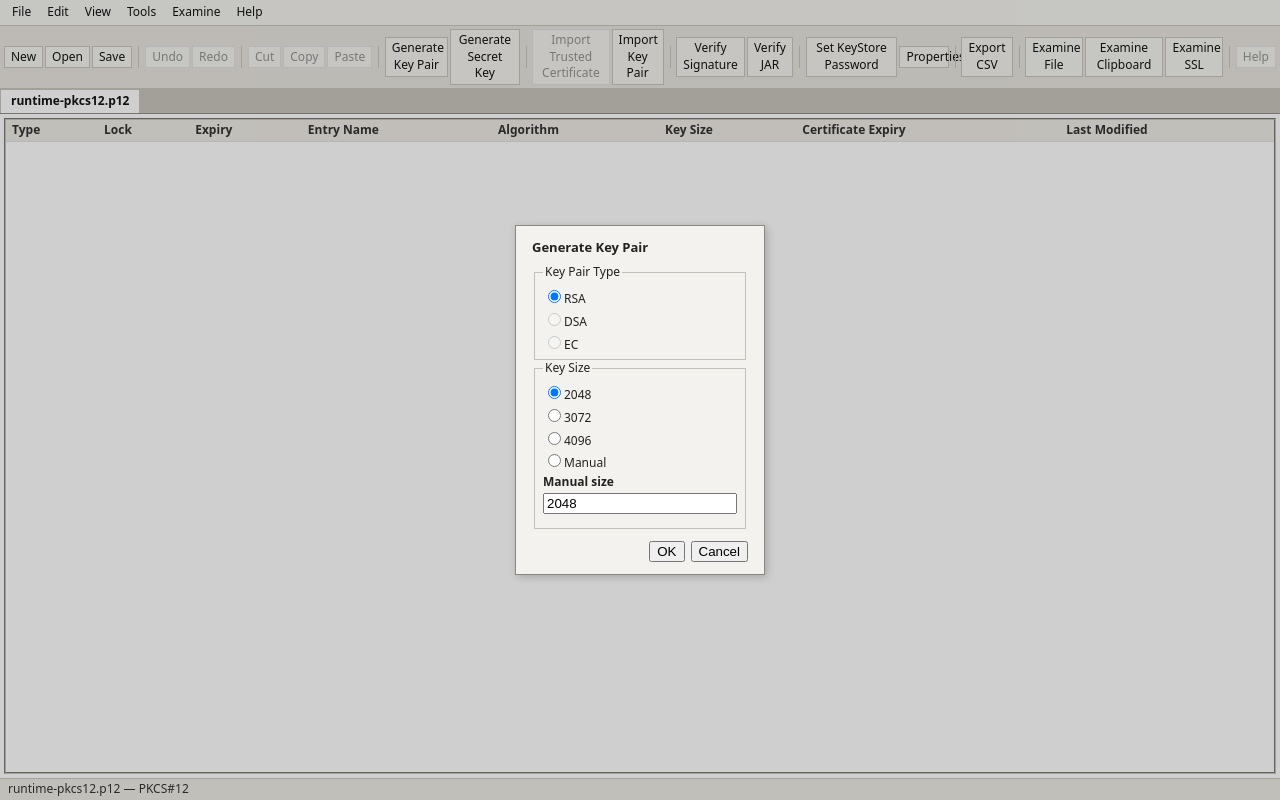
Test: generate dialogs › opens Generate Key Pair with labelled type and size radios from control-ids
Expected: the dialog "Generate Key Pair" is shown, [515, 225, 765, 575]
Expected: the radio button with test id "dialog.generate-key-pair.type.rsa" is checked, [548, 290, 561, 303]
What coordinates should you click on to do the following:
click the button with test id "dialog.generate-key-pair.ok"
I would click on:
 (667, 552)
Its box is [649, 541, 684, 562].
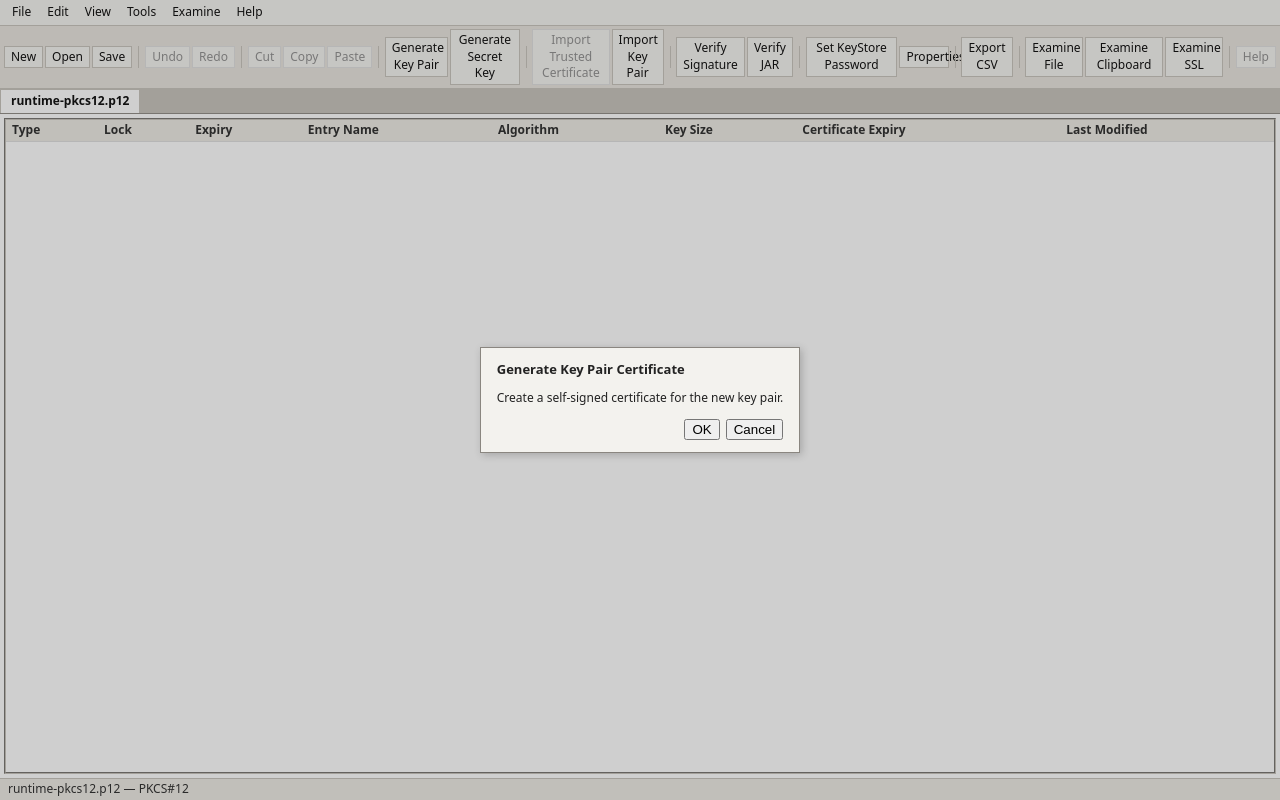
Expected: the dialog "Generate Key Pair Certificate" is shown, [480, 347, 800, 453]
